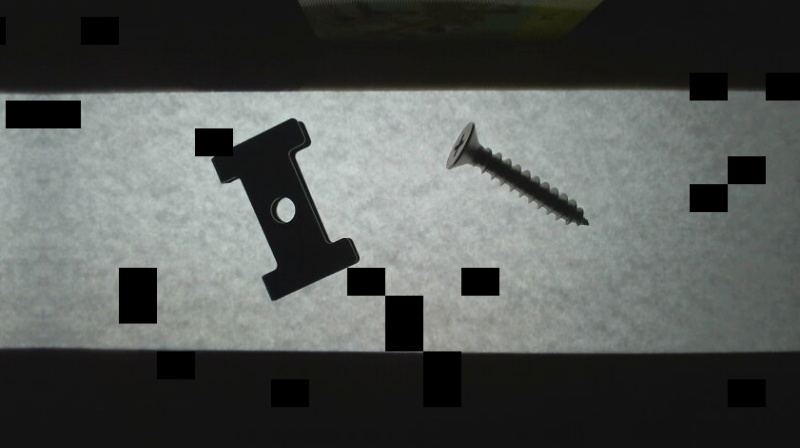O002: (206, 116, 361, 305)
S001: (442, 119, 594, 234)
